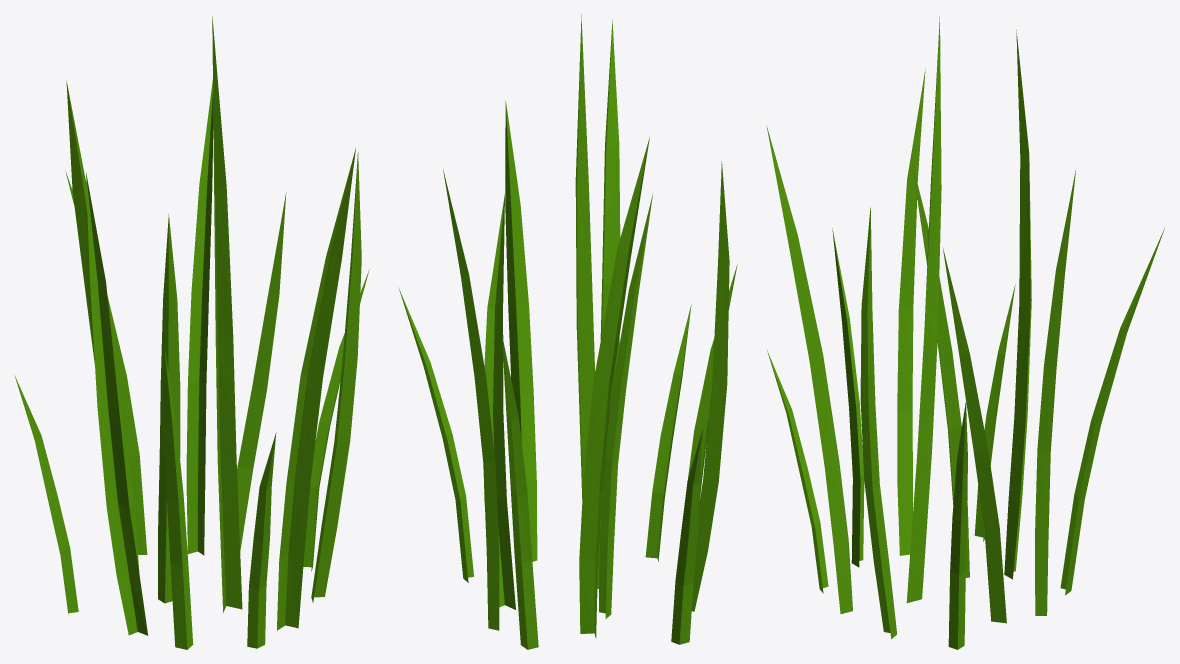
File: GrassTall_2.fbx
3 renders of one model, left to right at view 1: azimuth 30°, elevation 25°; view 2: azimuth 150°, elevation 25°; view 3: azimuth 270°, elevation 25°, orthographic.
Parts seen in each view (by area): view 1: Mesh; view 2: Mesh; view 3: Mesh.
Part boxes in pixels (x1,y1,x2,y2): Mesh: (14, 16, 369, 649); Mesh: (398, 14, 737, 649); Mesh: (766, 16, 1164, 649).
Bounding box in the file's own units: 159 × 269 × 167.
